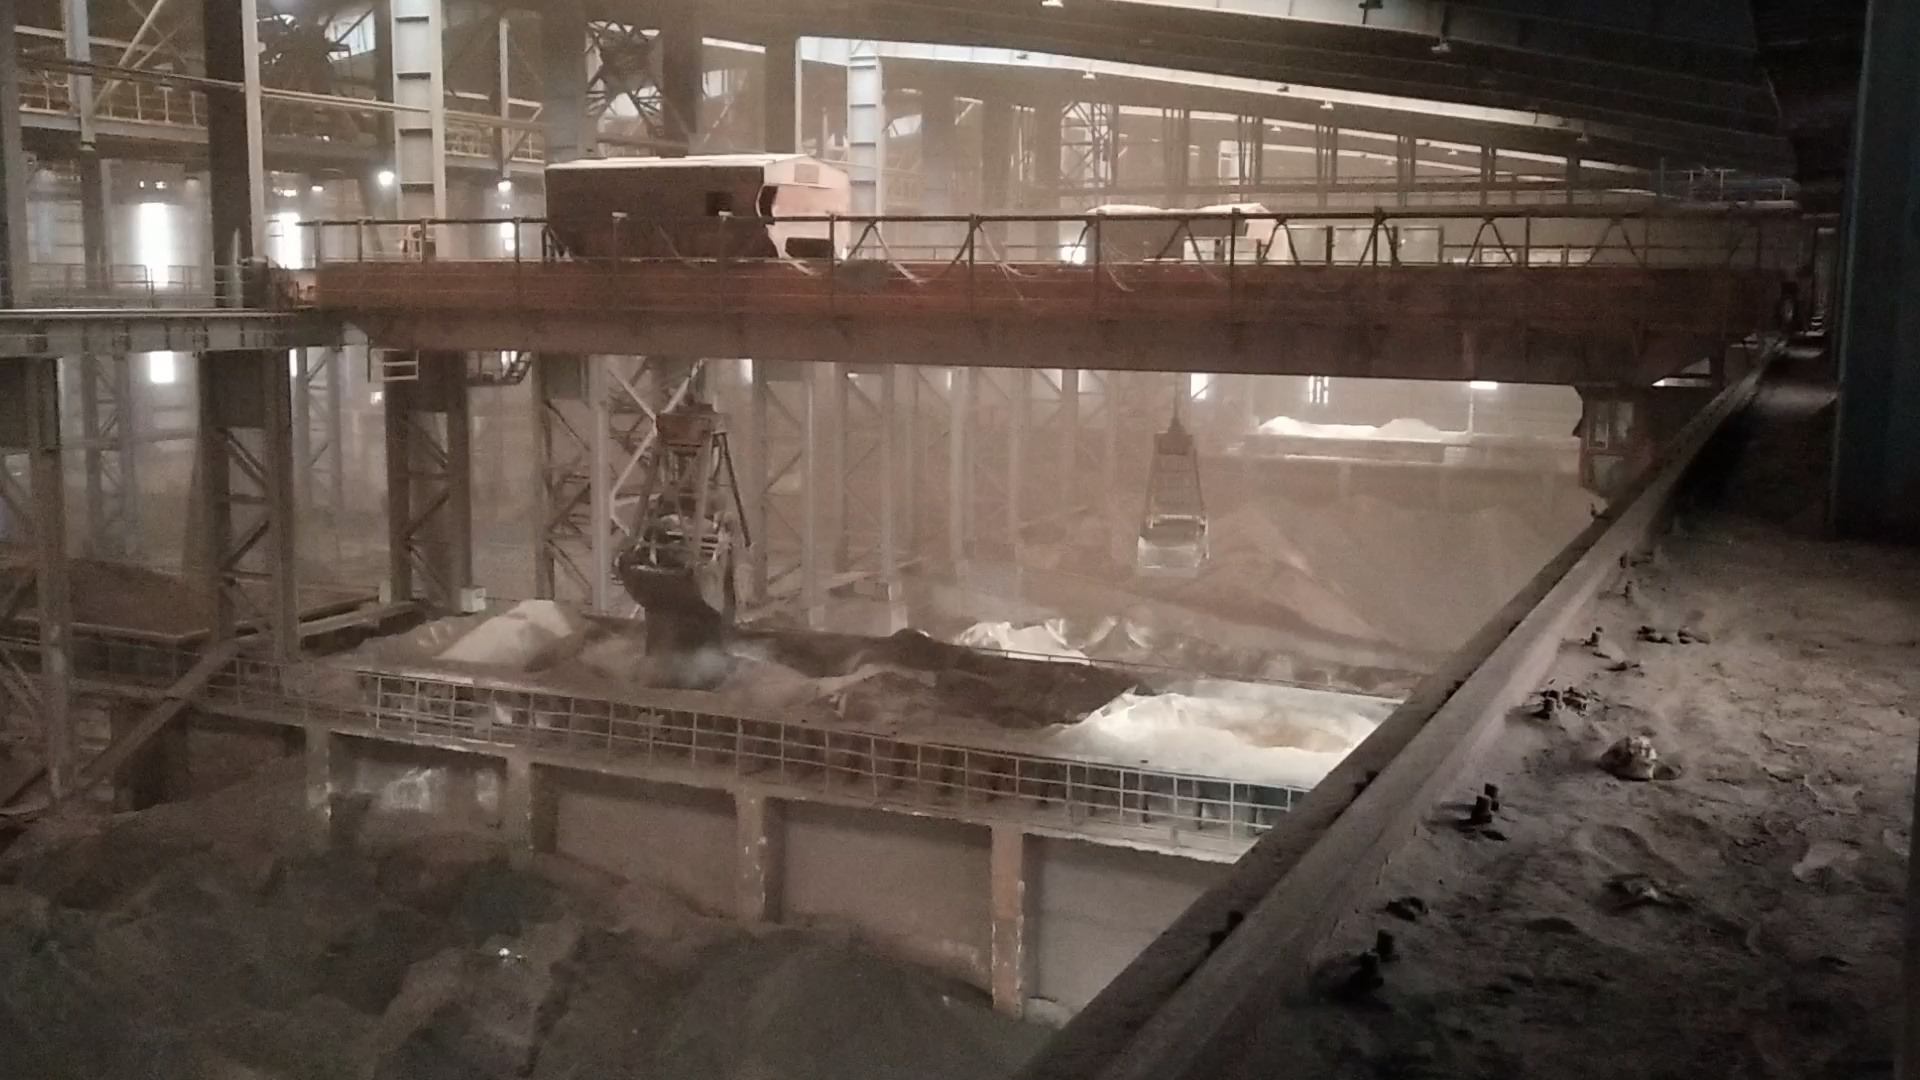grab: (605, 388, 756, 622), (1127, 411, 1215, 583)
